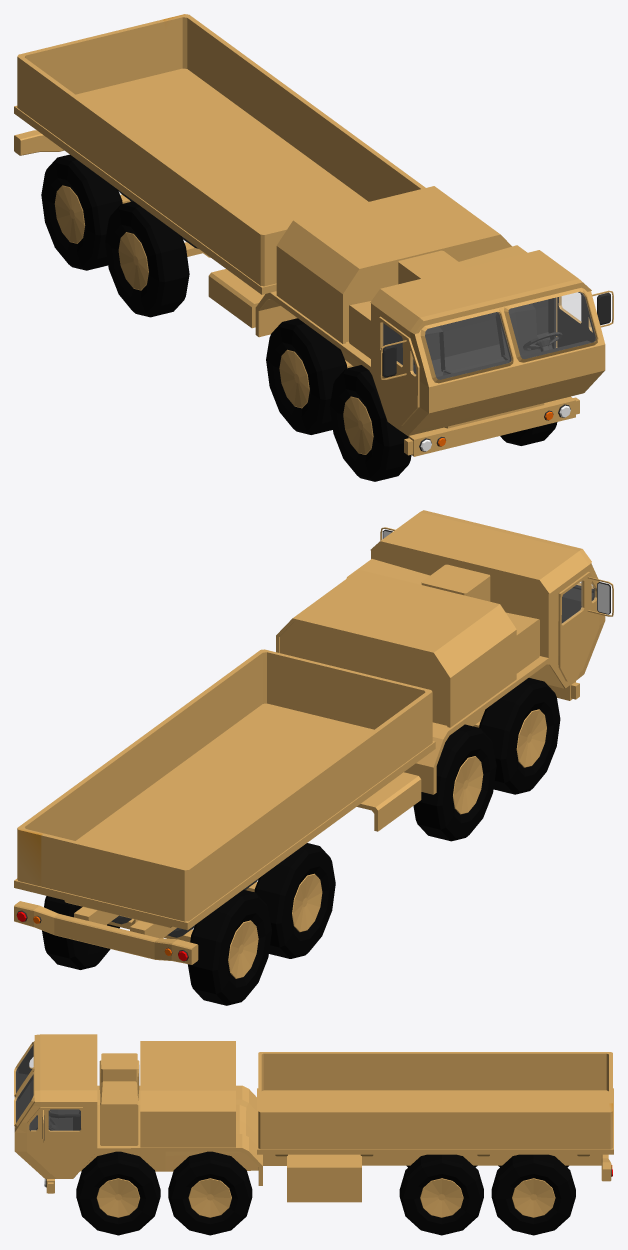
The picture shows the model from 3 angles, top to bottom: view 1: azimuth 30°, elevation 25°; view 2: azimuth 150°, elevation 25°; view 3: azimuth 270°, elevation 25°; orthographic projection. The views are drawn at different scales.
Parts seen in each view (by area): view 1: Cube.004, Plane.010, Plane.012, Cylinder.020, Plane.013, Cylinder.019, Cylinder.021, Plane.005, Cylinder.022, Plane.011, Plane.014, Cylinder.018; view 2: Cube.004, Plane.010, Cylinder.021, Plane.005, Cylinder.022, Cylinder.020, Cylinder.019, Plane.011, Cylinder.025; view 3: Cube.004, Plane.010, Cylinder.023, Cylinder.018, Cylinder.024, Cylinder.025, Plane.014, Plane.013, Plane.012.
Boxes of the visible parts, x1=… form: Cube.004: x1=14, y1=14, x2=527, y2=368; Plane.010: x1=14, y1=130, x2=605, y2=456; Plane.012: x1=425, y1=292, x2=595, y2=379; Cylinder.020: x1=105, y1=201, x2=189, y2=317; Plane.013: x1=383, y1=292, x2=595, y2=379; Cylinder.019: x1=266, y1=318, x2=347, y2=434; Cylinder.021: x1=41, y1=154, x2=122, y2=270; Plane.005: x1=41, y1=19, x2=164, y2=94; Cylinder.022: x1=329, y1=365, x2=411, y2=481; Plane.011: x1=378, y1=316, x2=419, y2=425; Plane.014: x1=557, y1=290, x2=613, y2=347; Cylinder.018: x1=500, y1=422, x2=557, y2=445; Cube.004: x1=14, y1=559, x2=539, y2=942; Plane.010: x1=14, y1=510, x2=605, y2=964; Cylinder.021: x1=187, y1=889, x2=271, y2=1005; Plane.005: x1=41, y1=833, x2=164, y2=915; Cylinder.022: x1=479, y1=678, x2=560, y2=794; Cylinder.020: x1=254, y1=843, x2=335, y2=958; Cylinder.019: x1=413, y1=724, x2=496, y2=841; Plane.011: x1=558, y1=572, x2=613, y2=681; Cylinder.025: x1=42, y1=896, x2=119, y2=969; Cube.004: x1=99, y1=1041, x2=613, y2=1202; Plane.010: x1=14, y1=1034, x2=612, y2=1193; Cylinder.023: x1=168, y1=1151, x2=252, y2=1235; Cylinder.018: x1=76, y1=1151, x2=160, y2=1235; Cylinder.024: x1=399, y1=1154, x2=483, y2=1235; Cylinder.025: x1=491, y1=1154, x2=575, y2=1235; Plane.014: x1=27, y1=1107, x2=83, y2=1174; Plane.013: x1=16, y1=1045, x2=80, y2=1130; Plane.012: x1=15, y1=1045, x2=32, y2=1122.
Bounding box in the file's own units: 380 × 310 × 1176.
